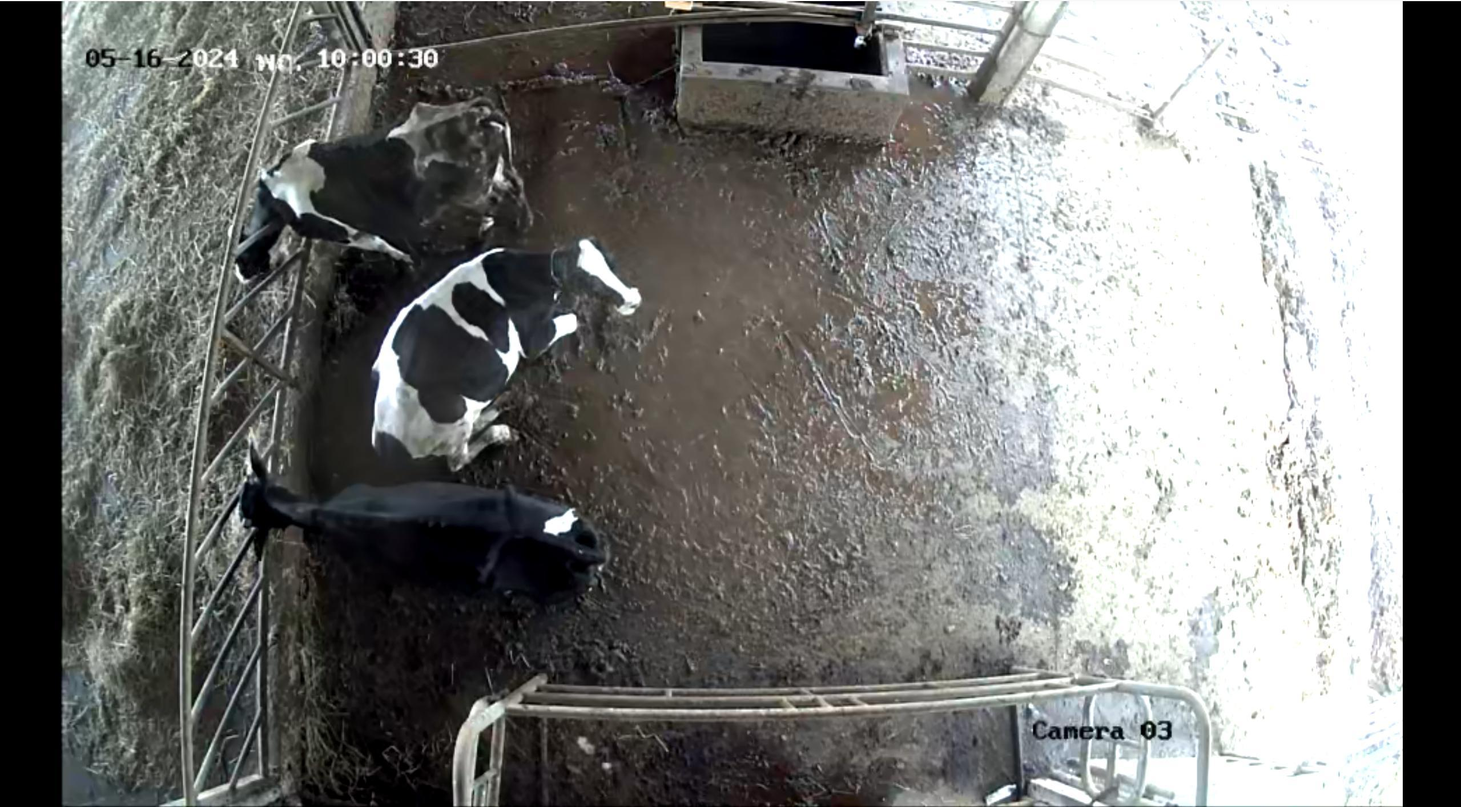eat: (184, 166, 331, 289)
lay: (360, 234, 661, 477)
stand: (232, 447, 639, 629)
